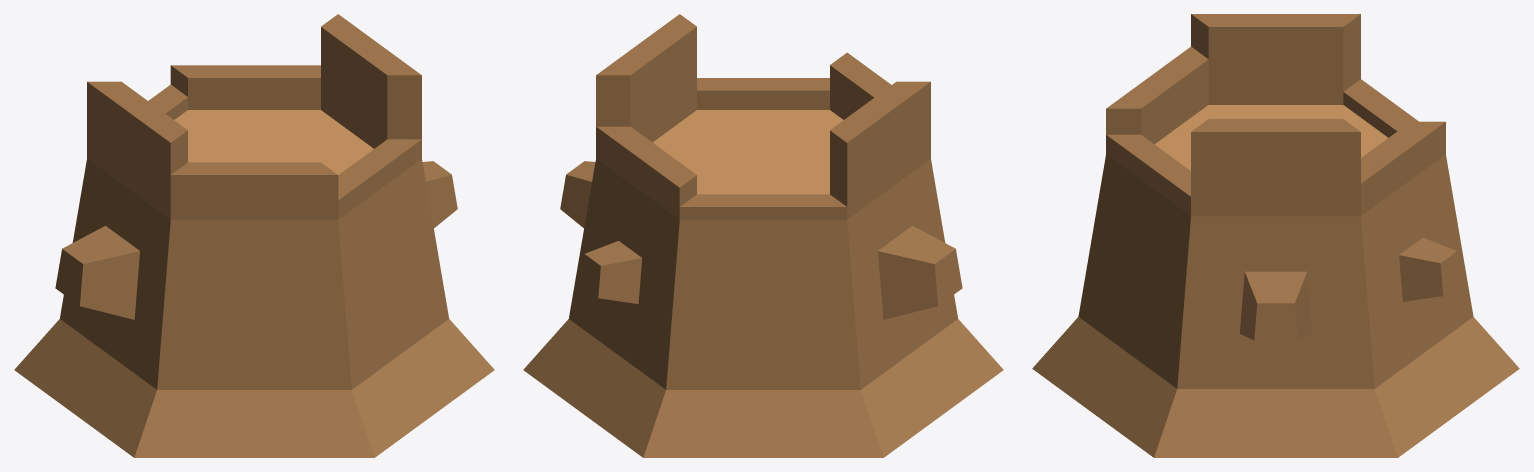
Rendered from trunk.dae.
3 renders of one model, left to right at view 1: azimuth 30°, elevation 25°; view 2: azimuth 150°, elevation 25°; view 3: azimuth 270°, elevation 25°, orthographic.
Parts seen in each view (by area): view 1: trunk; view 2: trunk; view 3: trunk.
Part boxes in pixels (x1,y1,x2,y2): trunk: (14,14,494,457); trunk: (523,14,1003,457); trunk: (1032,14,1519,457).
Size of the model in its own units: 0.5021 by 0.3726 by 0.5508.
